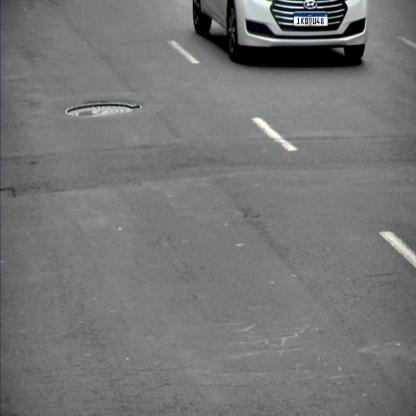PlacaM: (293, 14, 328, 26)
